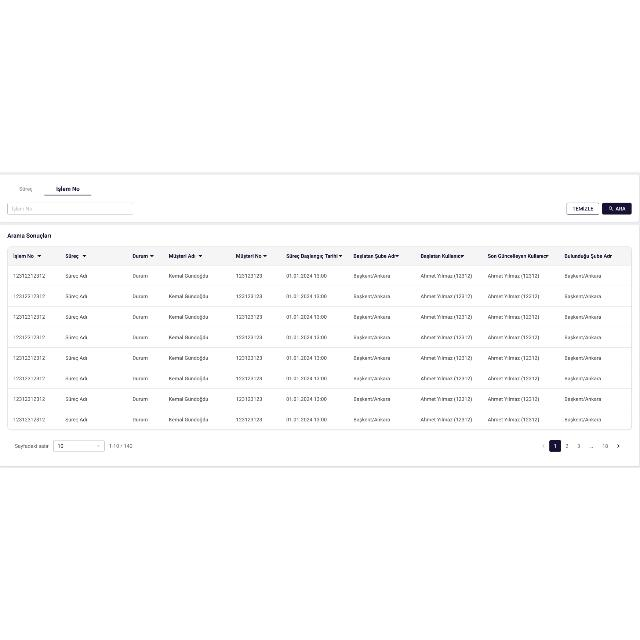QLabel: (6, 233, 52, 239), (54, 186, 80, 192), (572, 206, 594, 212), (16, 186, 34, 192), (615, 206, 625, 212)
VBtn: (566, 202, 600, 215), (602, 202, 632, 215)
VCard: (1, 225, 640, 467)
VDataTable: (7, 246, 633, 457)
VIcon: (607, 206, 613, 212)
VTabs: (1, 175, 640, 223)
VTextField: (7, 202, 134, 215)
